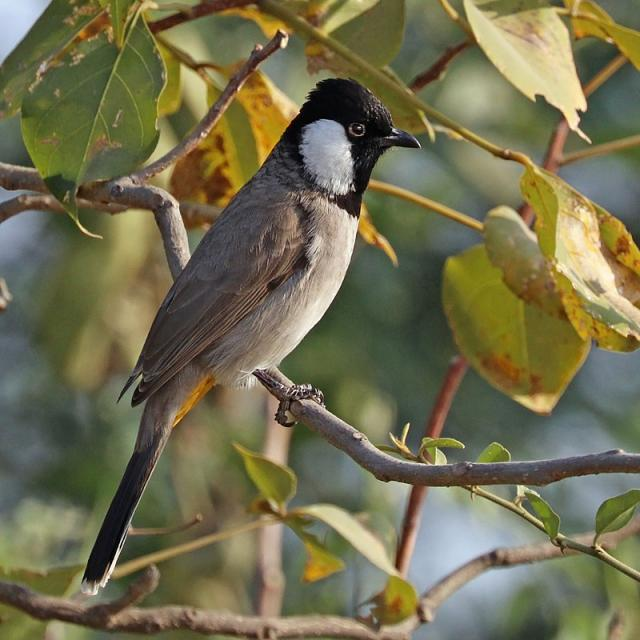bird: (72, 65, 433, 581)
